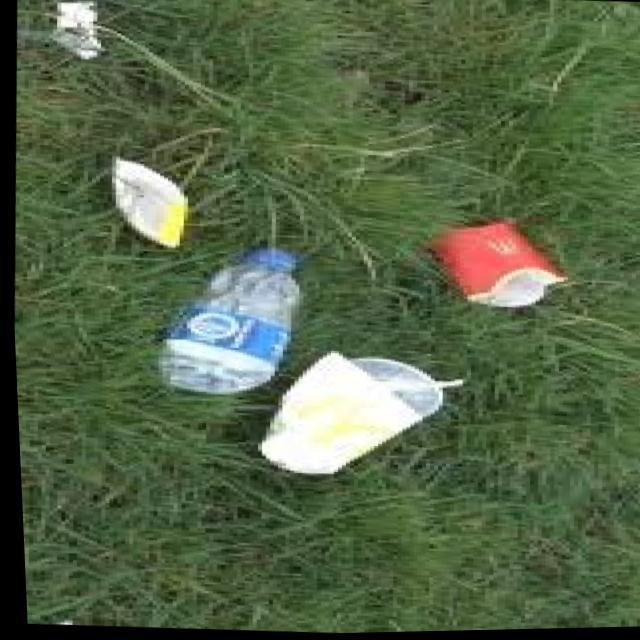food: (36, 0, 128, 80)
leaf: (156, 244, 314, 404)
trash: (250, 349, 456, 482), (422, 216, 574, 320), (99, 148, 207, 249)
